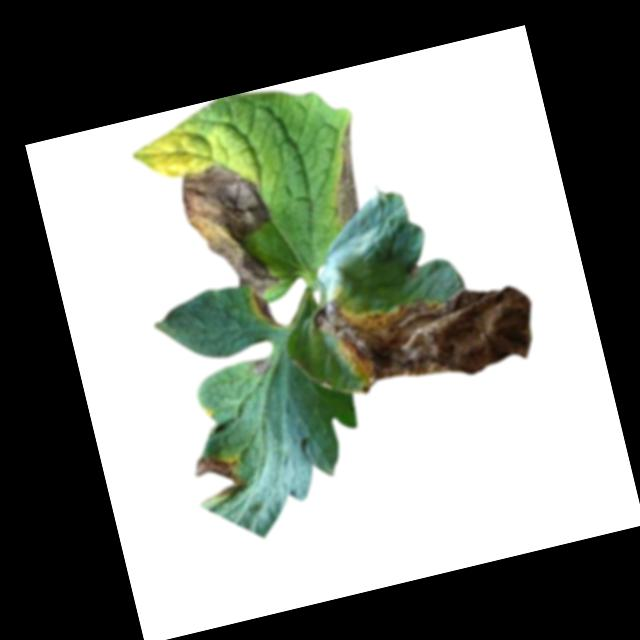Early_blight: (311, 254, 544, 406), (174, 158, 280, 304), (319, 123, 374, 229), (189, 448, 252, 506), (251, 290, 282, 333), (251, 354, 277, 375), (405, 261, 421, 279)
